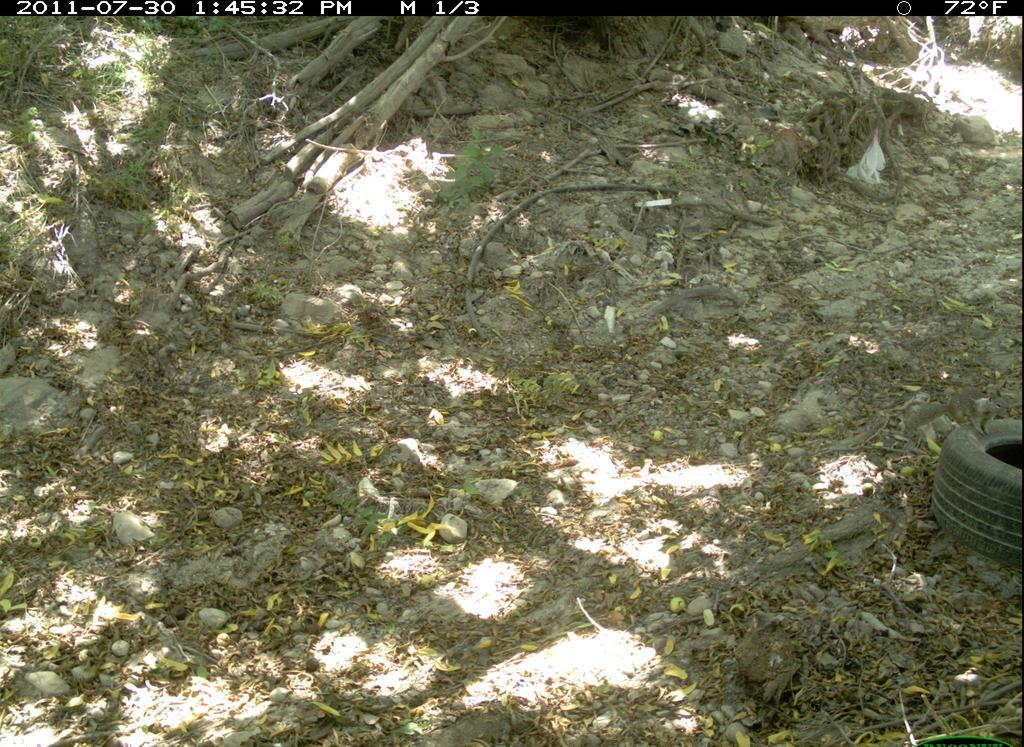squirrel: (895, 378, 1017, 446)
